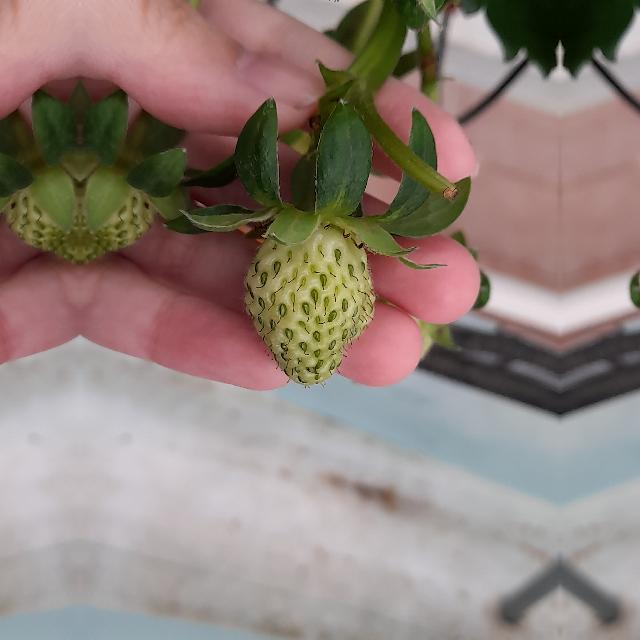Health_25: (243, 224, 375, 386)
